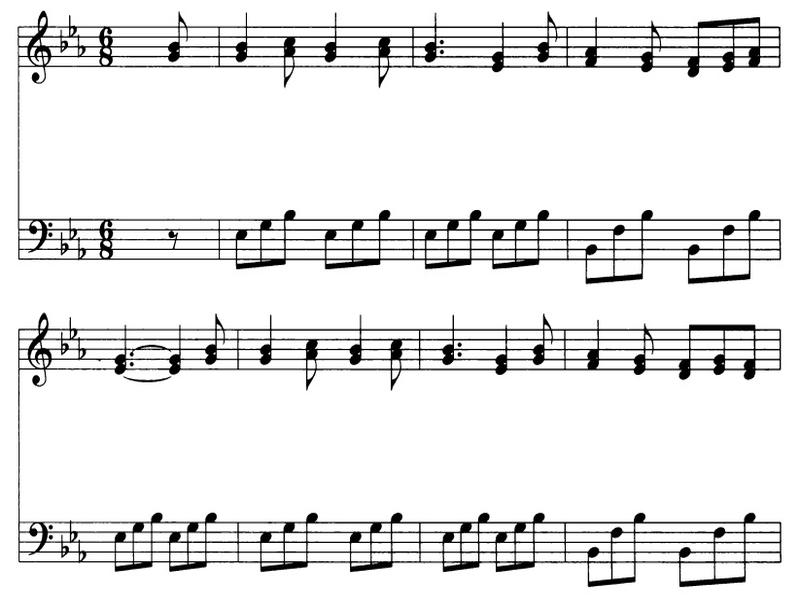Bem: (53, 534, 70, 559), (52, 330, 67, 358), (65, 318, 78, 348), (63, 214, 78, 239), (64, 520, 77, 544), (55, 234, 69, 256), (73, 40, 88, 60), (54, 30, 67, 53), (77, 241, 88, 268), (75, 543, 87, 564), (63, 15, 74, 36), (78, 346, 90, 364)
C: (627, 194, 659, 287), (734, 504, 766, 592), (287, 328, 327, 394), (737, 201, 765, 291), (626, 498, 652, 593), (294, 504, 327, 578), (269, 205, 300, 280), (627, 311, 658, 384), (627, 19, 665, 76), (367, 200, 397, 270), (467, 504, 497, 574), (274, 28, 307, 91), (197, 504, 224, 579), (381, 326, 412, 391), (673, 229, 704, 293), (161, 11, 198, 64), (196, 307, 227, 370), (678, 13, 707, 79), (533, 6, 566, 61), (459, 204, 485, 272), (527, 494, 549, 574), (675, 315, 702, 380), (269, 513, 296, 578), (602, 217, 626, 288), (531, 308, 557, 370), (384, 505, 407, 574), (712, 216, 733, 291), (431, 524, 456, 587), (743, 4, 767, 69), (339, 213, 364, 275), (122, 518, 148, 576), (703, 522, 724, 593), (716, 11, 739, 75), (225, 217, 249, 278), (252, 211, 275, 274), (451, 522, 476, 579), (369, 34, 397, 84), (607, 521, 627, 591), (737, 321, 759, 383), (364, 509, 384, 577), (580, 234, 602, 294), (182, 511, 202, 577), (708, 317, 728, 379), (487, 221, 509, 276), (253, 525, 275, 579), (533, 194, 549, 268), (145, 505, 162, 574), (491, 524, 513, 577), (581, 532, 601, 590), (441, 212, 460, 272), (164, 523, 184, 580), (510, 513, 527, 576), (110, 519, 128, 578), (676, 538, 694, 593), (417, 225, 437, 274), (510, 212, 526, 272), (318, 224, 337, 274), (345, 527, 365, 574)
CF: (22, 204, 55, 261), (27, 505, 56, 559)
CS: (24, 4, 56, 92), (23, 305, 53, 394)
N: (576, 315, 610, 379), (481, 14, 511, 81), (317, 8, 348, 64), (227, 3, 254, 65), (344, 314, 371, 373), (416, 7, 440, 69), (255, 311, 277, 374), (439, 304, 460, 369), (493, 318, 514, 383), (111, 301, 129, 376), (584, 12, 603, 75), (166, 314, 183, 378)
P: (127, 361, 137, 372), (437, 38, 447, 47), (456, 341, 463, 352), (438, 48, 446, 57), (128, 353, 135, 361), (456, 353, 465, 357)
SN: (160, 218, 182, 257)
